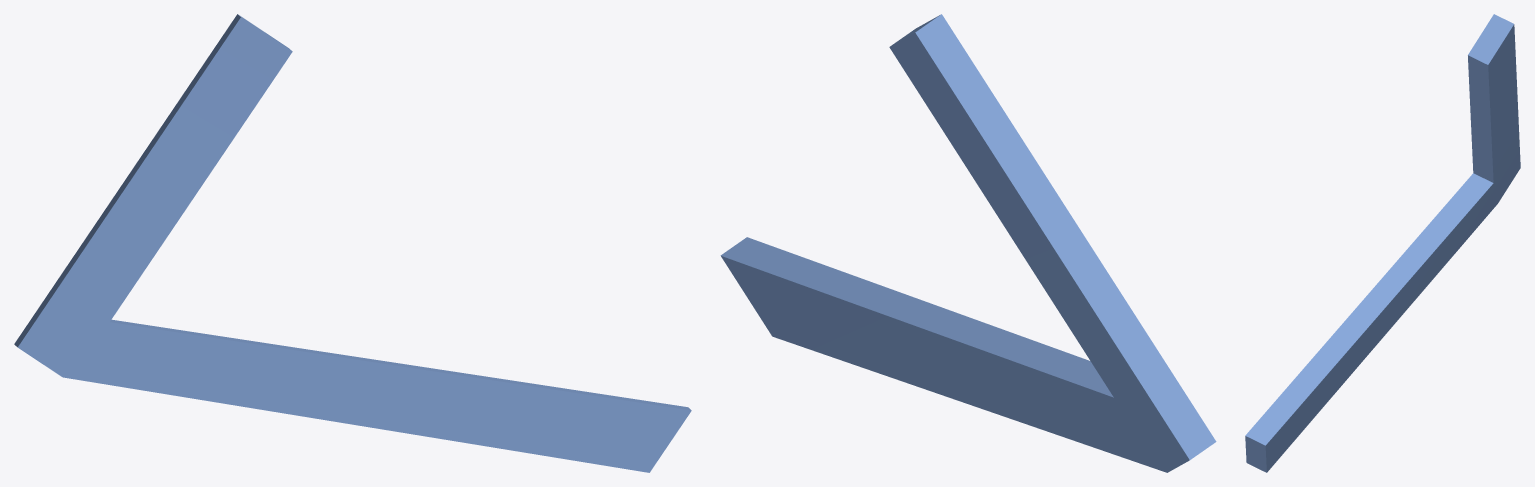
Rendered from New_Number_7.gltf.
The picture shows the model from 3 angles, left to right: view 1: azimuth 30°, elevation 25°; view 2: azimuth 150°, elevation 25°; view 3: azimuth 270°, elevation 25°; orthographic projection. The views are drawn at different scales.
Visible parts, largest first — view 1: Part 520; view 2: Part 520; view 3: Part 520.
Boxes of the visible parts, <box> form: Part 520: <box>14,14,691,472</box>; Part 520: <box>720,14,1216,472</box>; Part 520: <box>1245,14,1520,472</box>.
Size of the model in its own units: 0.00561 by 0.00423 by 0.00303.
